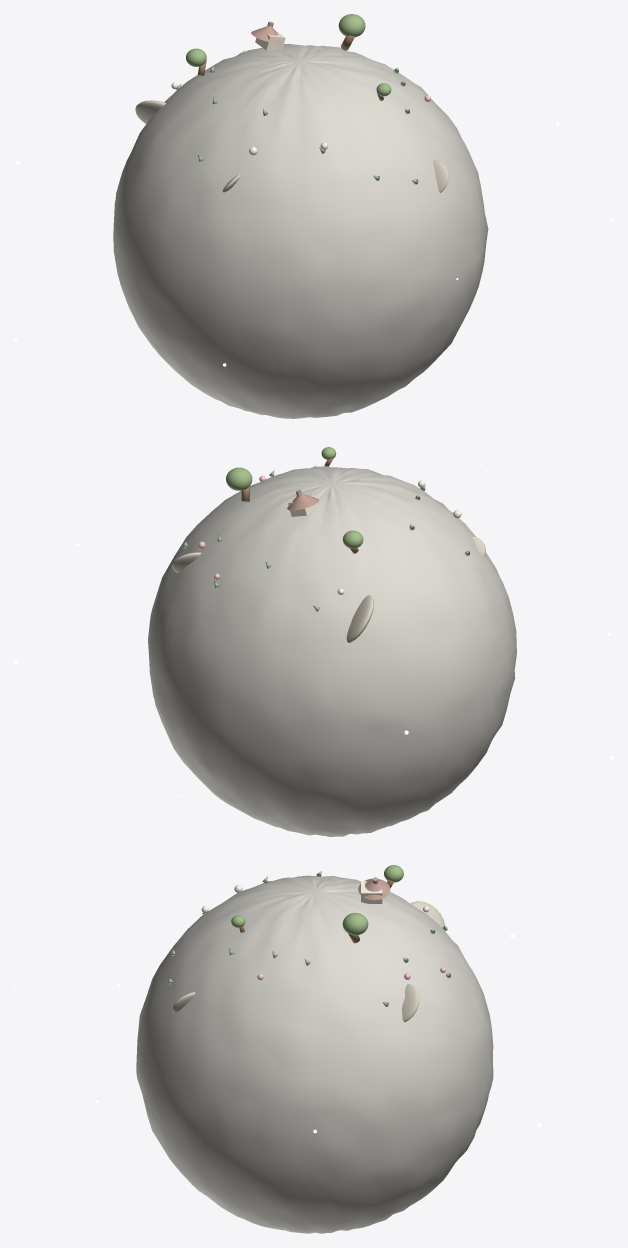
Rendered from cozy_moon.glb.
The picture shows the model from 3 angles, top to bottom: view 1: azimuth 30°, elevation 25°; view 2: azimuth 150°, elevation 25°; view 3: azimuth 270°, elevation 25°; orthographic projection. The views are drawn at different scales.
Visible parts, largest first — view 1: Moon; view 2: Moon, Crater.001; view 3: Moon.
Part boxes in pixels (box(x1,y1,x2,y2)): Moon: box(113, 44, 488, 418); Moon: box(148, 466, 516, 836); Crater.001: box(346, 595, 373, 642); Moon: box(136, 875, 493, 1233).
Size of the model in its own units: 3.36 by 2.1 by 3.36.
